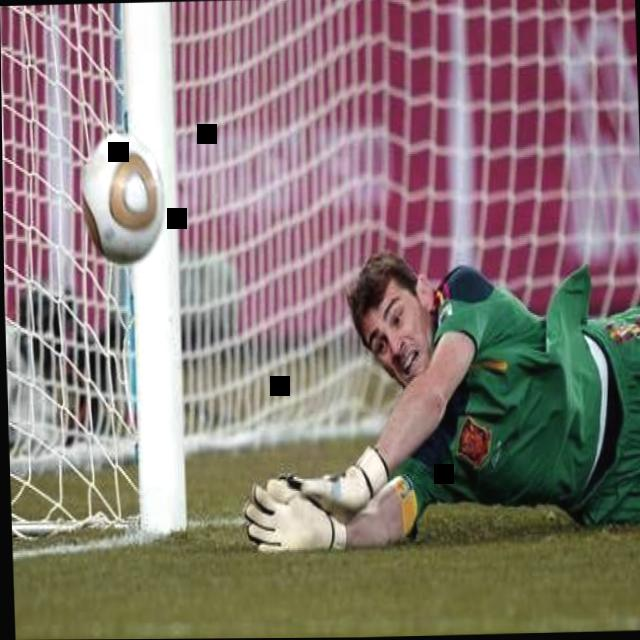Fall-Detected: (236, 223, 640, 563)
